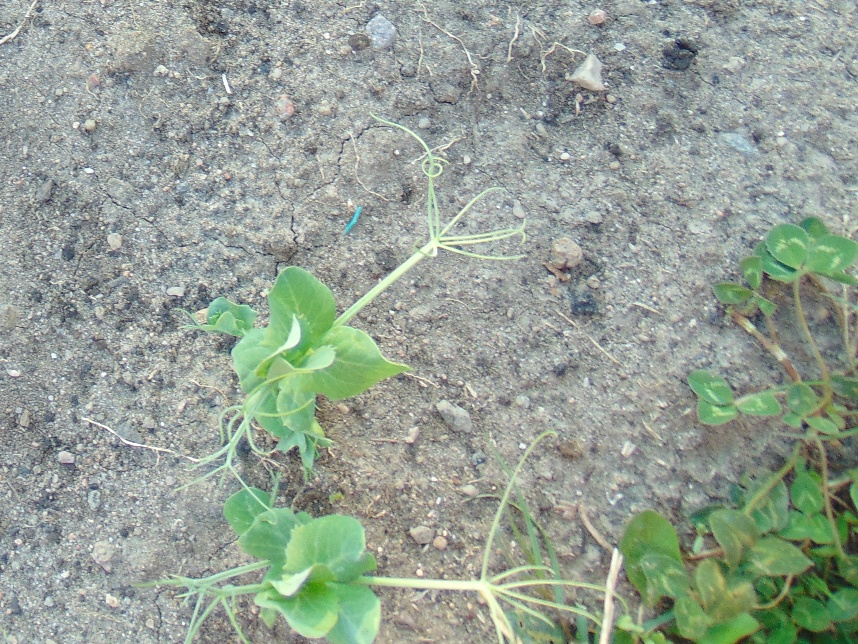crop: (192, 168, 502, 492), (175, 488, 552, 644)
weed: (555, 467, 858, 644), (687, 212, 858, 506)
